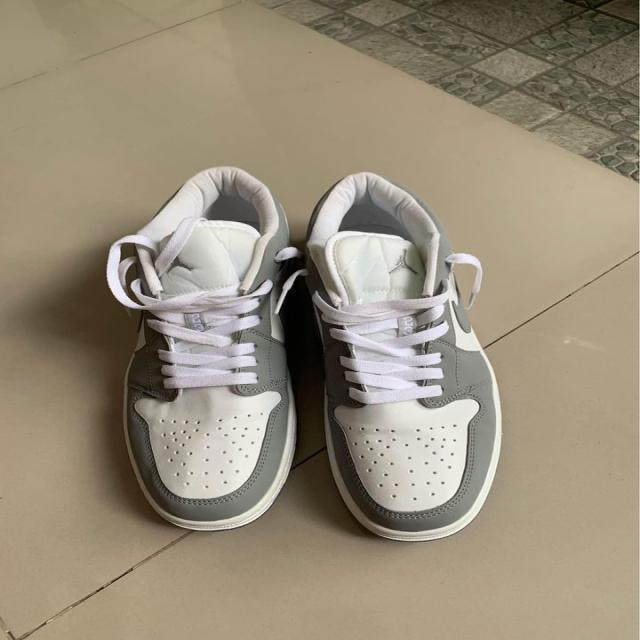nike fake jordan 1: (98, 148, 302, 535), (304, 165, 504, 547)
